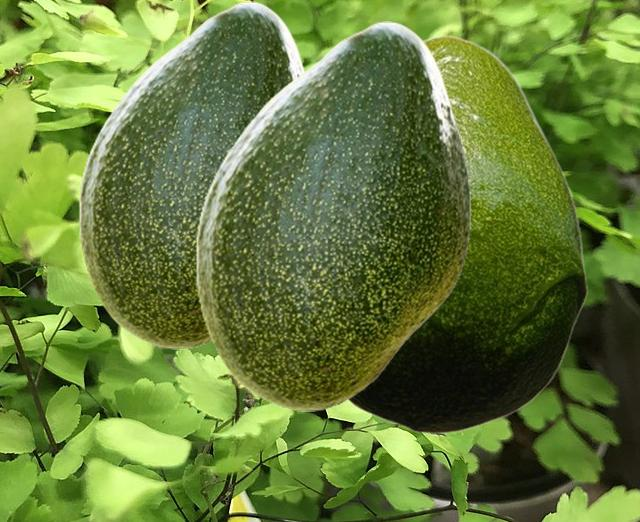avocado: (195, 21, 469, 410), (348, 34, 587, 433), (78, 1, 306, 348)
